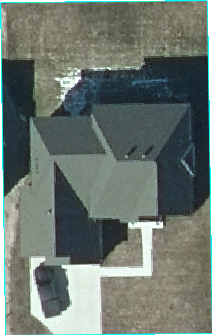house: (18, 100, 196, 268)
